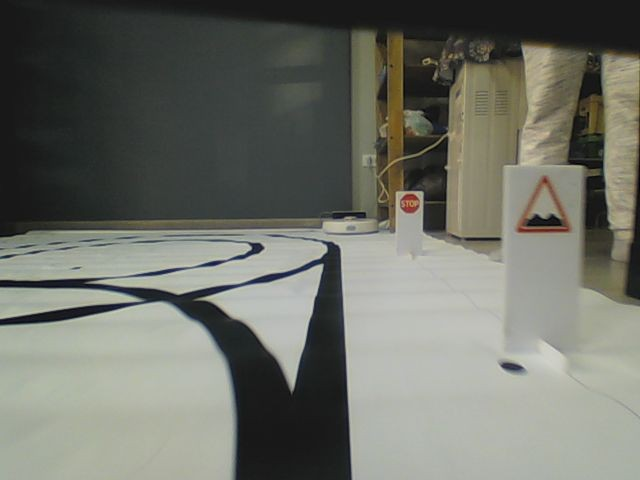Nerov: (513, 174, 573, 234)
Stop: (400, 192, 419, 214)
